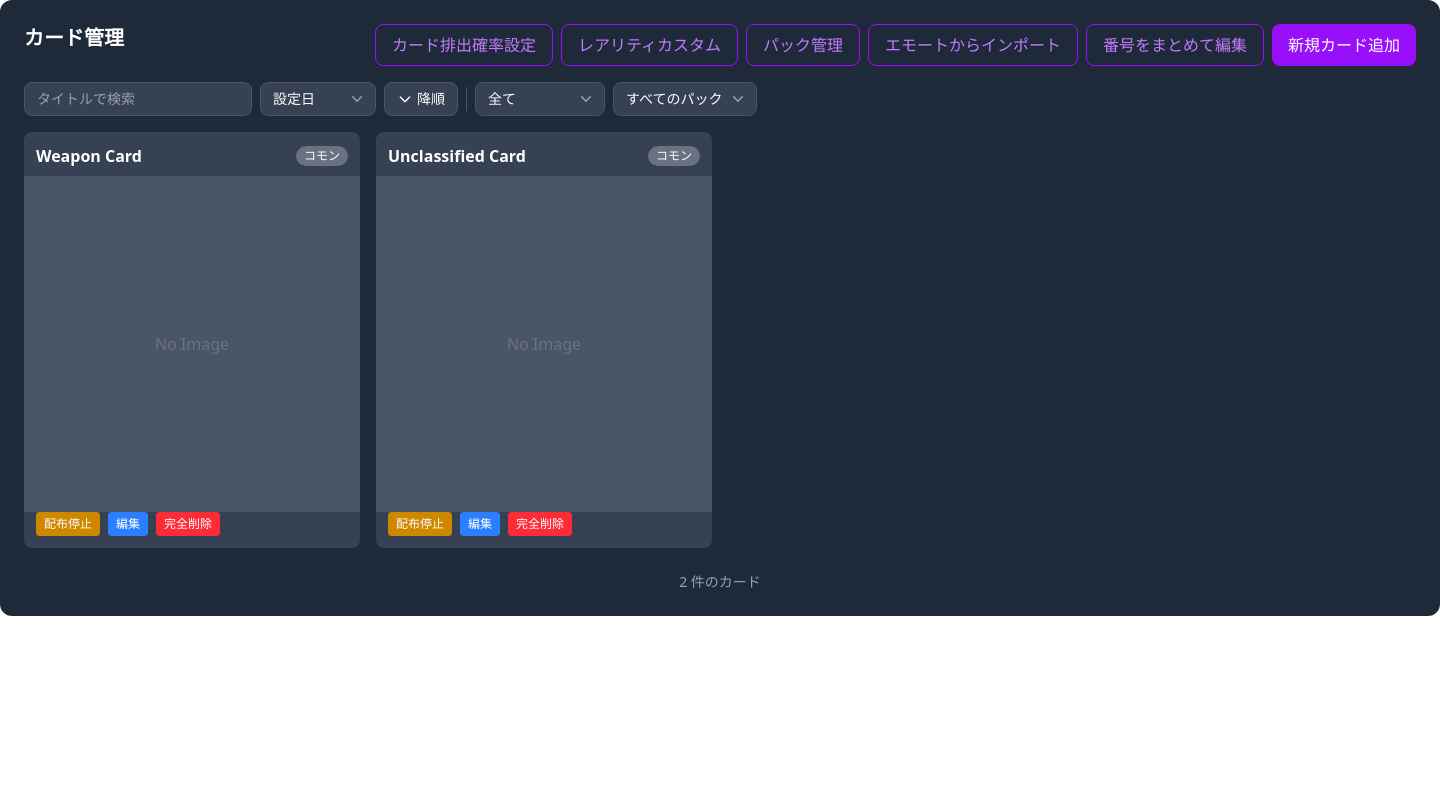
CardManager pack filter › filters to only unclassified cards when the default pseudo-pack is selected
Select "デフォルト" in the dropdown named "カードパックで絞り込む": (685, 99) [613,82,757,116]
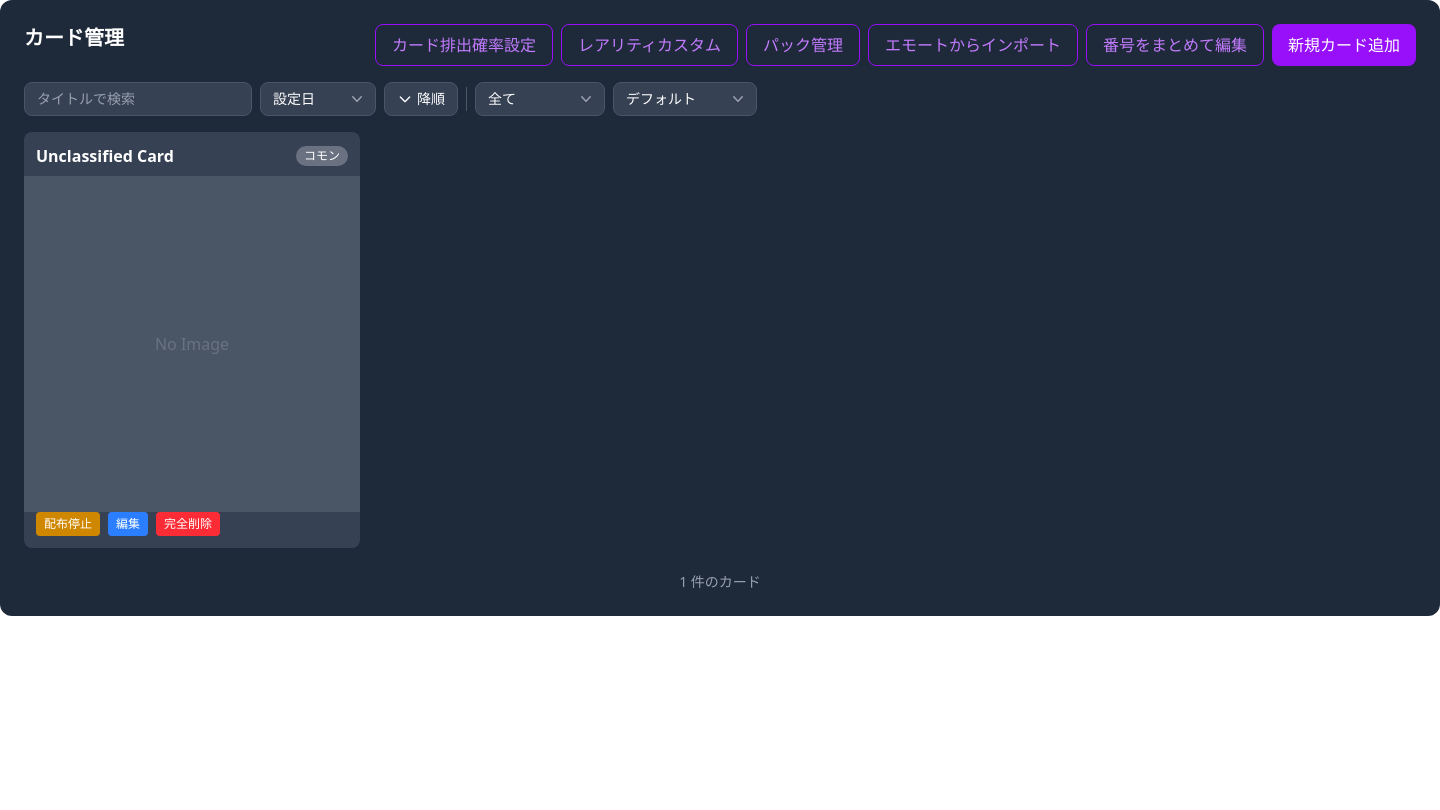
Expected: the heading "Unclassified Card" is shown, [36,144,174,168]
Expected: the heading "Weapon Card" is gone
